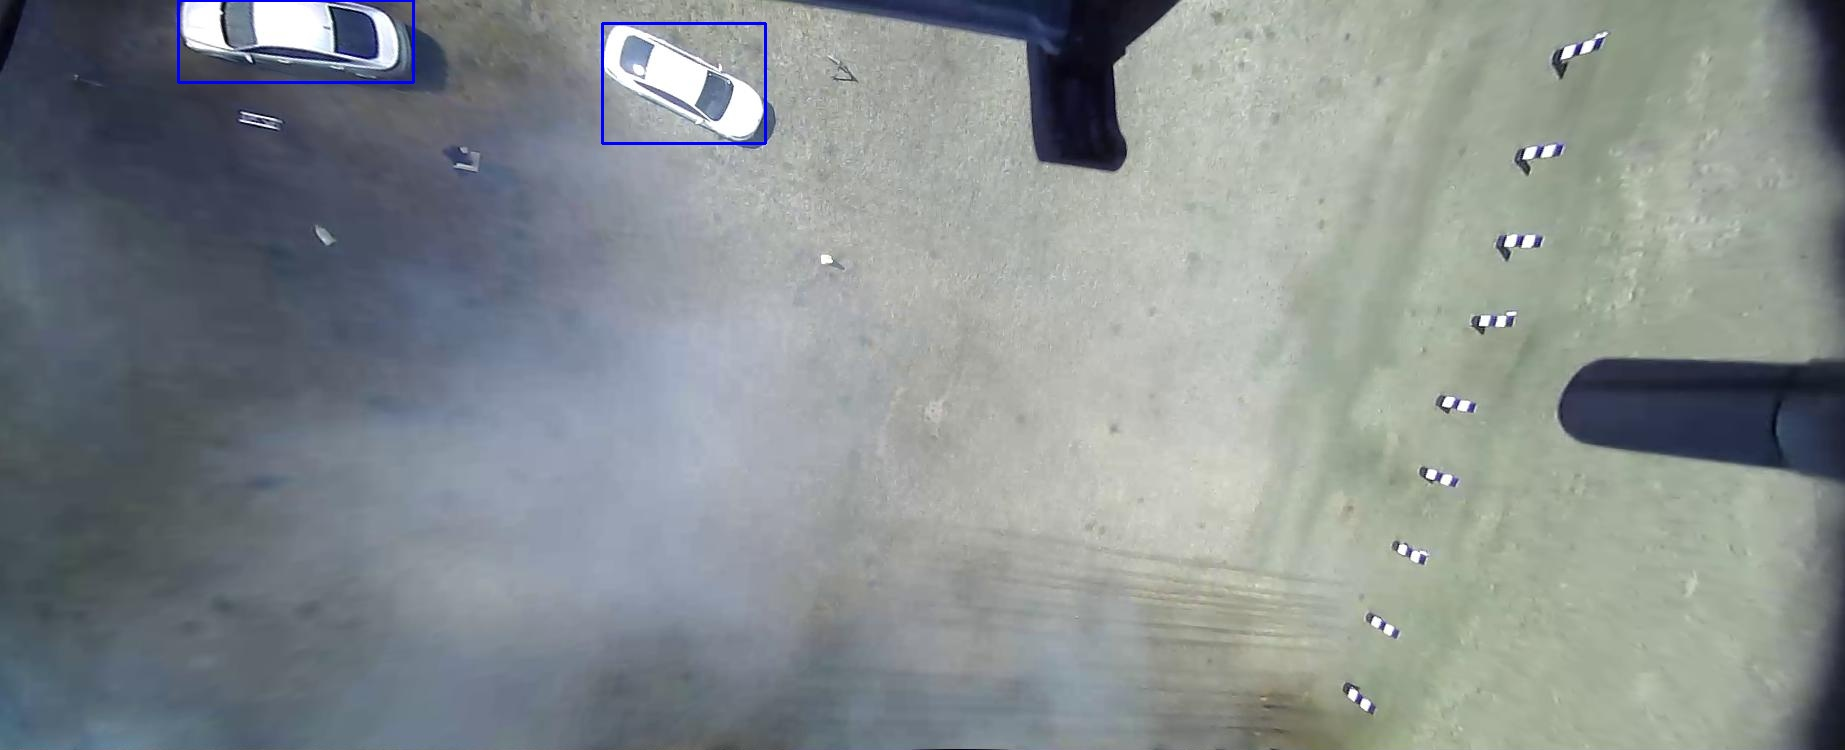vehicle: (0, 178, 82, 413), (24, 602, 144, 750)
